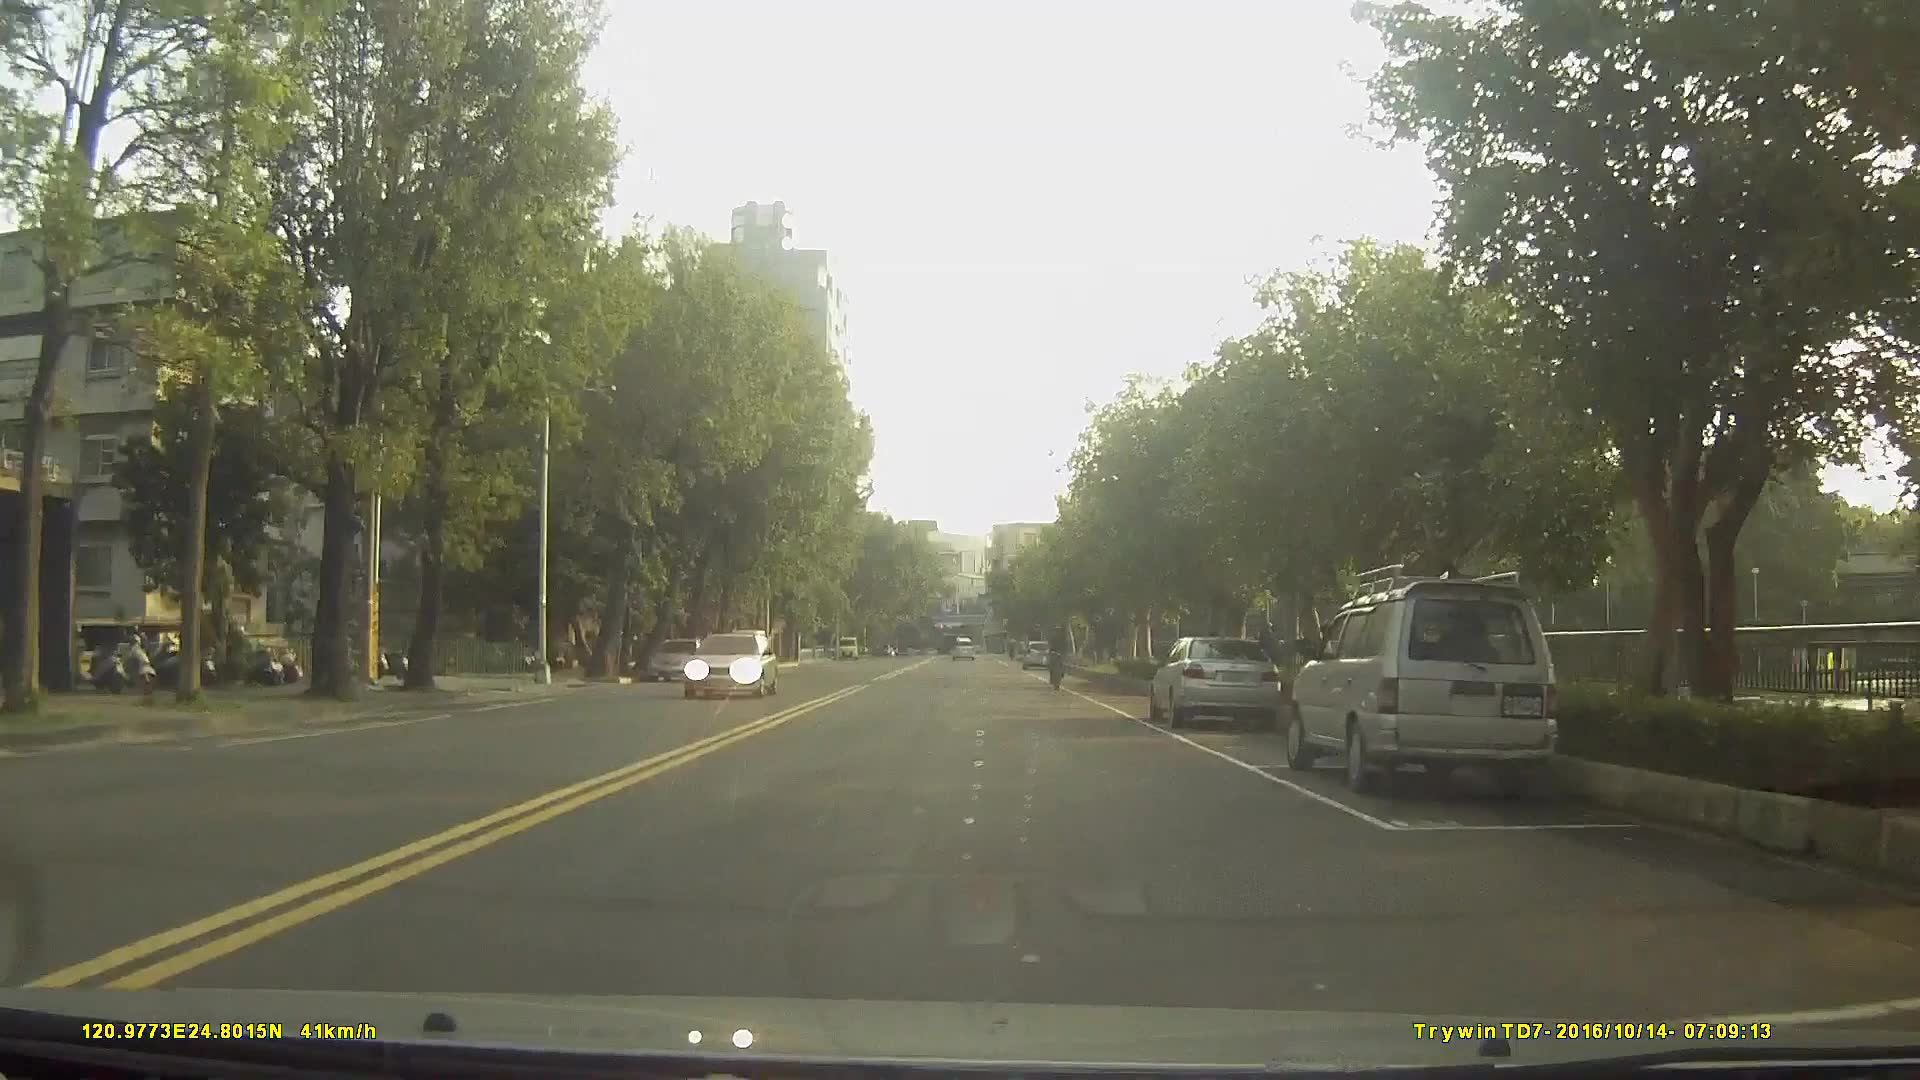rider: (1049, 623, 1071, 695)
vehicle: (1285, 572, 1559, 792), (1151, 632, 1286, 734), (678, 628, 781, 700), (647, 636, 707, 681), (721, 631, 769, 676), (1020, 637, 1054, 670), (947, 635, 975, 662)
